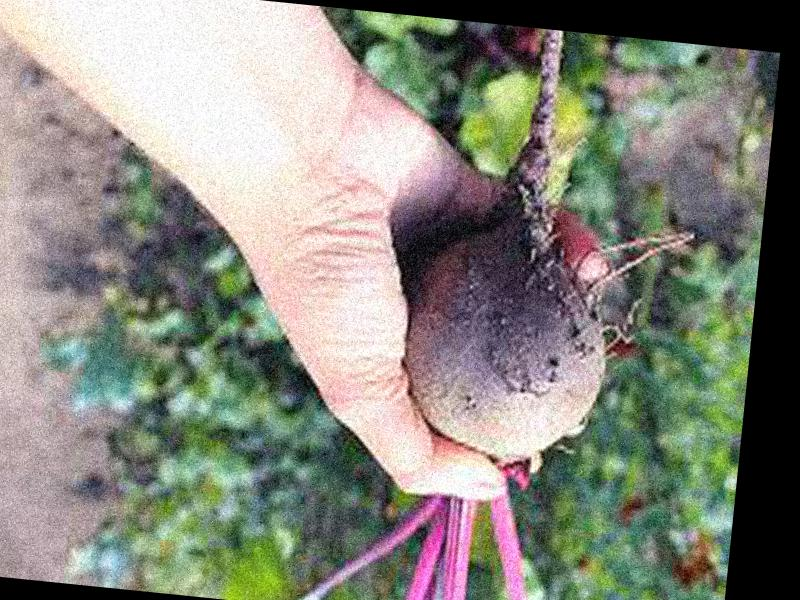Beet: (295, 9, 717, 600)
